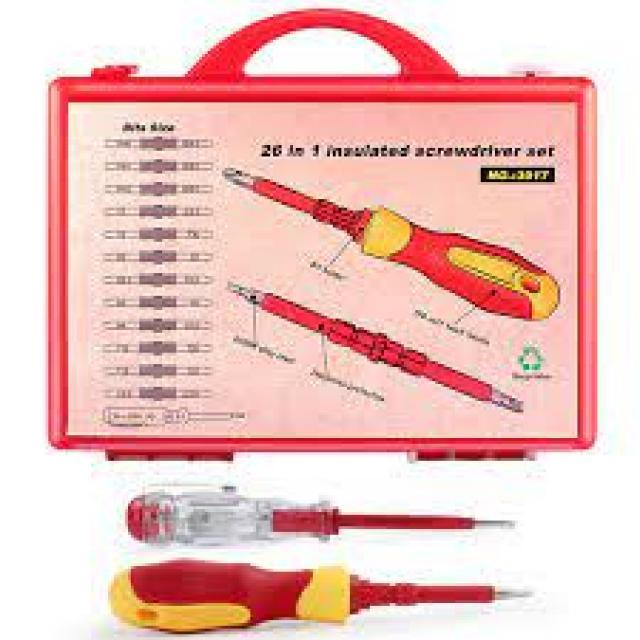screwdriver: (215, 158, 568, 323), (107, 554, 542, 638), (121, 482, 542, 553)
